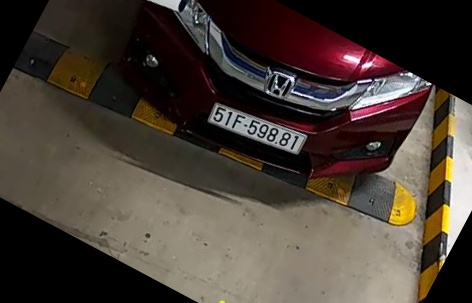plate: (204, 101, 307, 164)
